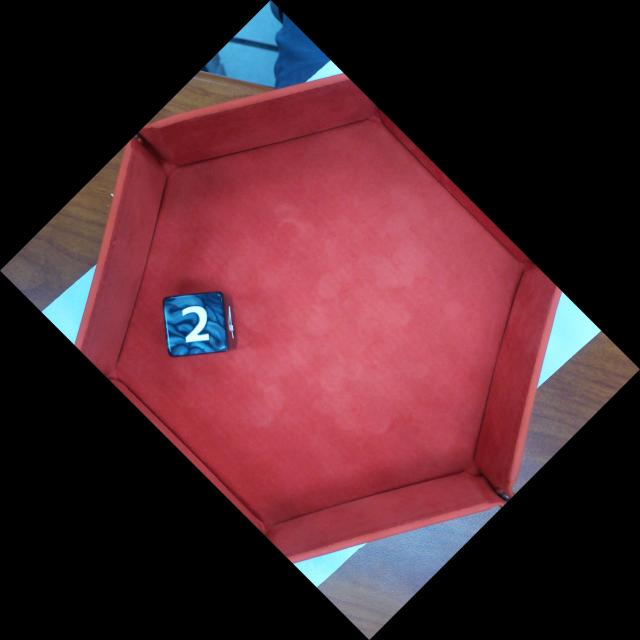dice: (161, 290, 231, 357)
